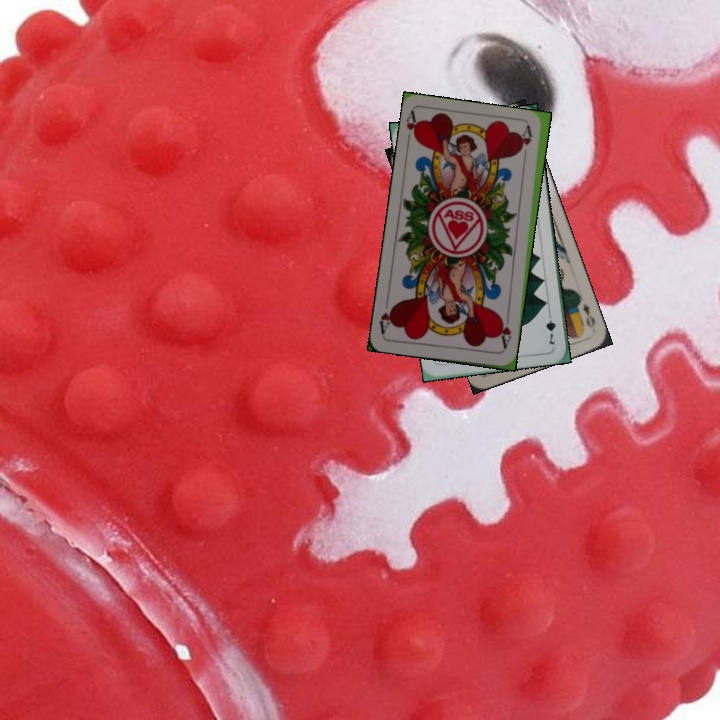EO: (579, 299, 598, 331)
G7: (542, 307, 559, 348)
HA: (402, 108, 423, 149), (495, 312, 514, 353)
